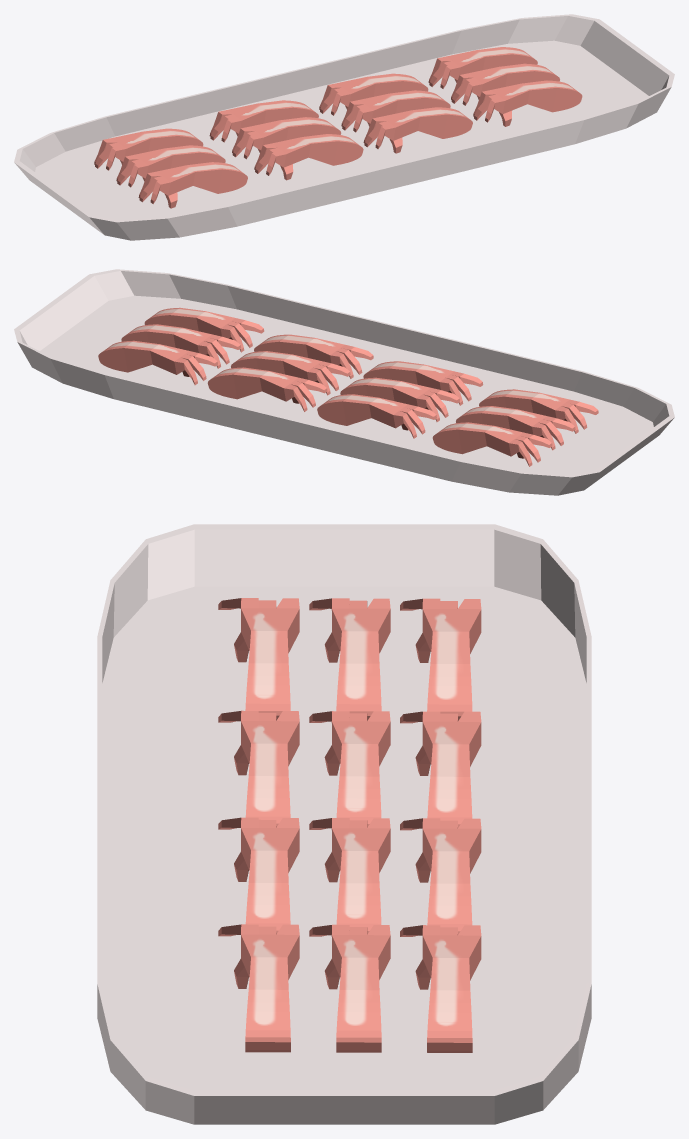
Rendered from Collectible Item.fbx_Chicken_Finger.fbx.
3 renders of one model, top to bottom at view 1: azimuth 30°, elevation 25°; view 2: azimuth 150°, elevation 25°; view 3: azimuth 270°, elevation 25°, orthographic. The views are drawn at different scales.
Visible parts, largest first — view 1: Chicken Finger Tray; view 2: Chicken Finger Tray; view 3: Chicken Finger Tray.
Boxes of the visible parts, bbox=[...] form: Chicken Finger Tray: bbox=[14, 14, 674, 240]; Chicken Finger Tray: bbox=[14, 269, 674, 495]; Chicken Finger Tray: bbox=[97, 524, 591, 1124].
Size of the model in its own units: 5.48 by 0.2459 by 2.
2 materials, 2 textured.
